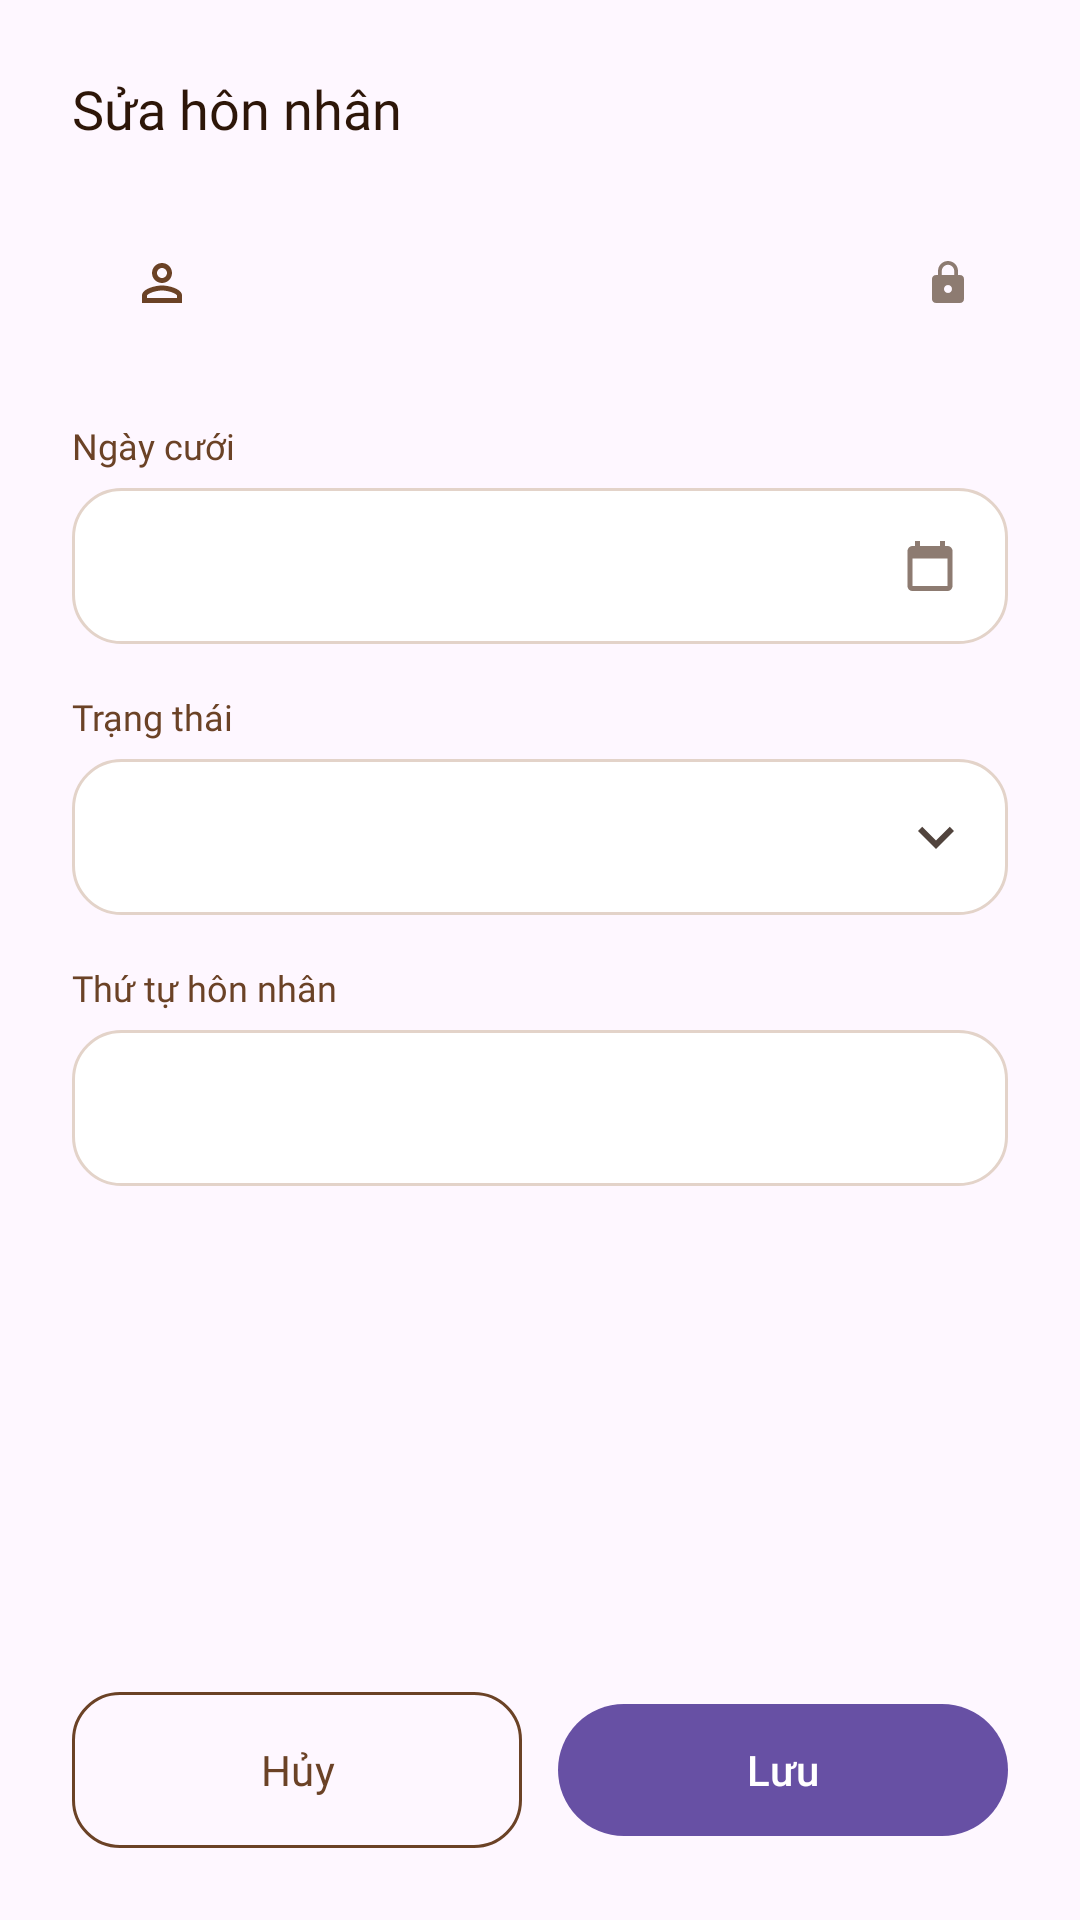

Named icons in this screenshot (1080 x 1920) and their centers, (x=x, y=y):
calendar: (x=930, y=566)
expand more: (x=936, y=838)
lock: (x=948, y=282)
person: (x=162, y=283)
